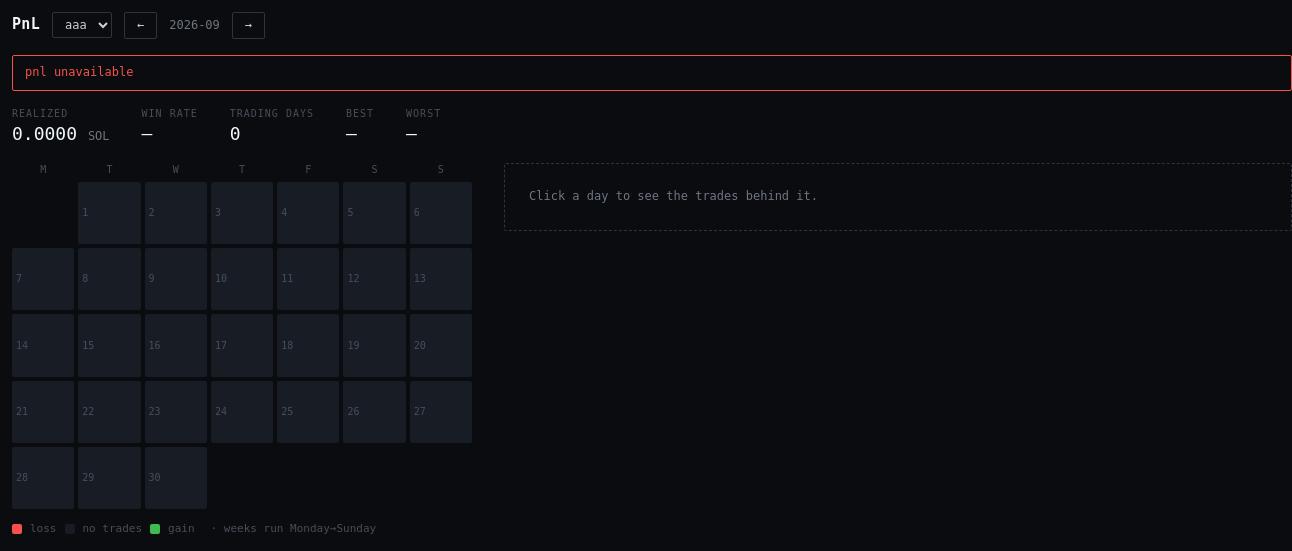
it: PnlTab › clears a stale error once a later read succeeds
Expected: the text "pnl unavailable" is shown, [12,55,1291,91]
Select "bbb" in the dropdown named "Wallet": (82, 25) [52,12,112,38]
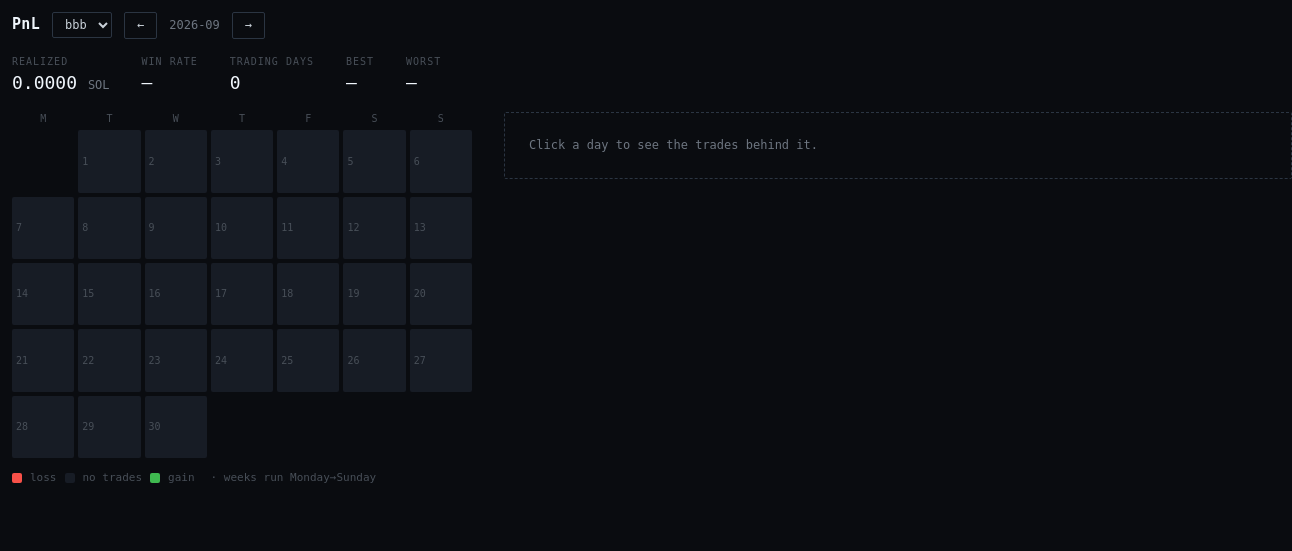
Expected: the text "pnl unavailable" is gone
